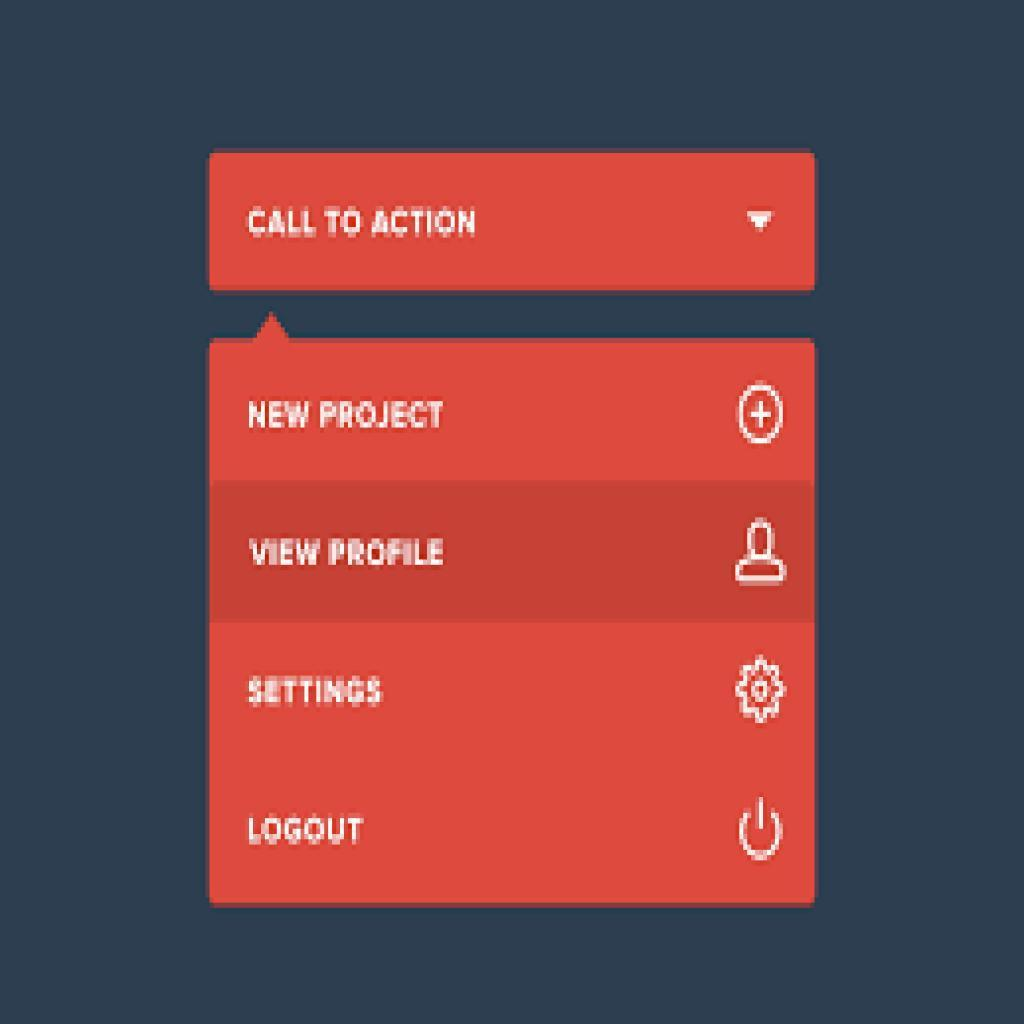dropdown: (214, 159, 813, 292)
icon: (729, 377, 794, 460), (734, 515, 797, 597), (729, 793, 792, 875), (732, 658, 795, 735)
label: (245, 389, 449, 443), (247, 534, 452, 581), (247, 667, 379, 717), (242, 811, 370, 848)
